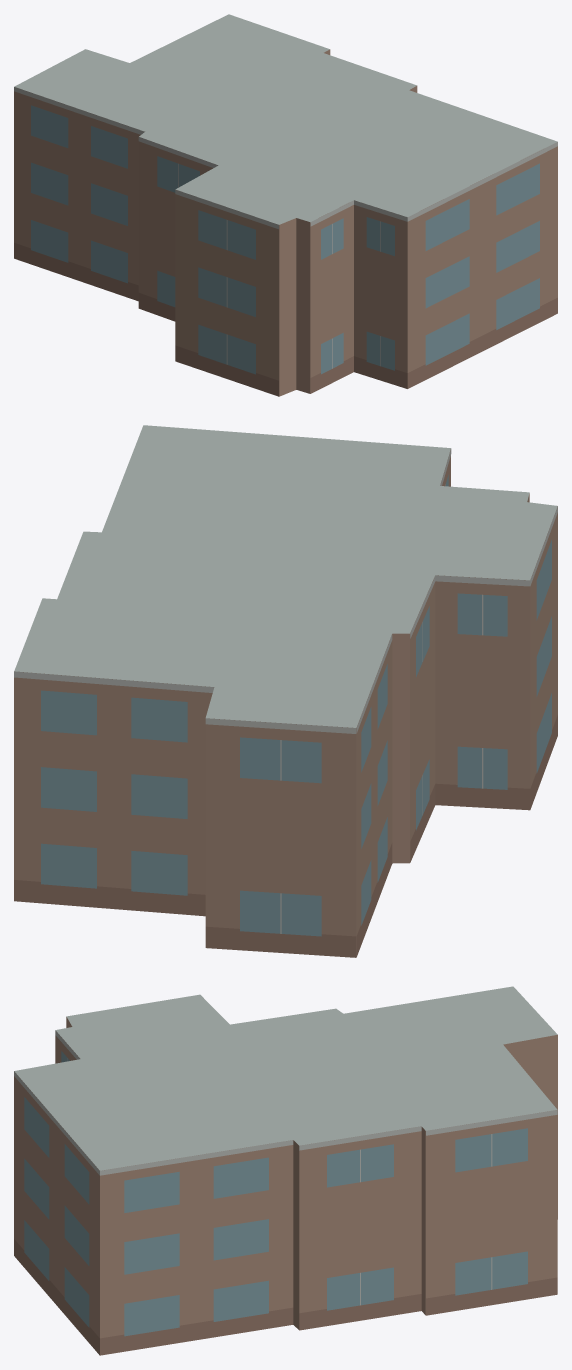
Rendered from survey-upis-32835847.glb.
The picture shows the model from 3 angles, top to bottom: view 1: azimuth 30°, elevation 25°; view 2: azimuth 150°, elevation 25°; view 3: azimuth 270°, elevation 25°; orthographic projection. The views are drawn at different scales.
Parts seen in each view (by area): view 1: survey-upis-32835847.tmp; view 2: survey-upis-32835847.tmp; view 3: survey-upis-32835847.tmp.
Boxes of the visible parts, <box> form: survey-upis-32835847.tmp: <box>14,14,557,396</box>; survey-upis-32835847.tmp: <box>14,425,557,957</box>; survey-upis-32835847.tmp: <box>14,986,557,1355</box>.
Size of the model in its own units: 19.6 by 9.15 by 24.41.
